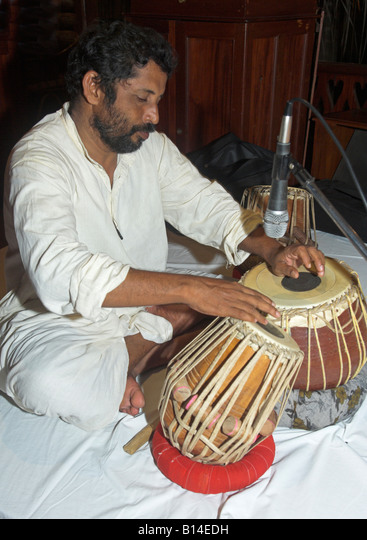tabla: (160, 311, 298, 466), (239, 258, 364, 387)
